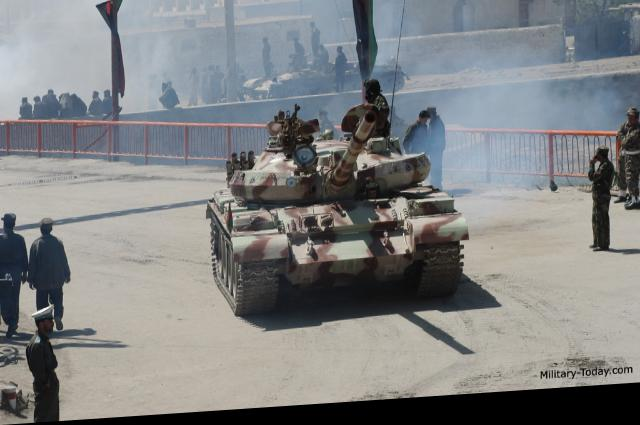other: (28, 307, 62, 421), (31, 214, 65, 308), (0, 209, 24, 334), (589, 155, 615, 259), (617, 117, 639, 213), (428, 113, 442, 193), (363, 85, 387, 124), (406, 120, 428, 156), (159, 81, 181, 113), (317, 112, 335, 137), (100, 88, 116, 116), (88, 85, 102, 115), (336, 50, 344, 92), (20, 91, 30, 124), (262, 40, 270, 78), (310, 25, 318, 58), (318, 48, 328, 66), (294, 41, 302, 60)
tank: (219, 123, 459, 311), (256, 55, 398, 103)
